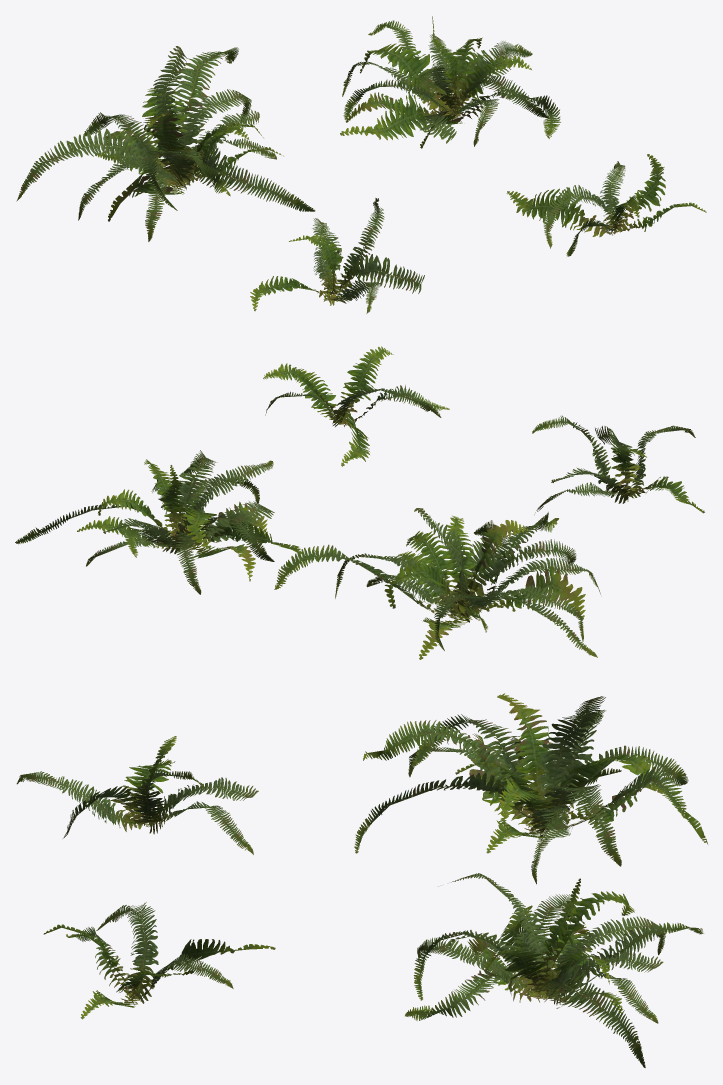
File: fern.glb
3 renders of one model, top to bottom at view 1: azimuth 30°, elevation 25°; view 2: azimuth 150°, elevation 25°; view 3: azimuth 270°, elevation 25°, orthographic. The views are drawn at different scales.
Parts seen in each view (by area): view 1: fern_02_b, fern_02_c, fern_02_a, fern_02_d; view 2: fern_02_b, fern_02_c, fern_02_d, fern_02_a; view 3: fern_02_b, fern_02_c, fern_02_a, fern_02_d.
Boxes of the visible parts, bbox=[...] form: fern_02_b: bbox=[16, 46, 315, 241]; fern_02_c: bbox=[340, 16, 560, 148]; fern_02_a: bbox=[250, 198, 424, 313]; fern_02_d: bbox=[506, 154, 706, 256]; fern_02_b: bbox=[274, 508, 600, 659]; fern_02_c: bbox=[15, 450, 301, 594]; fern_02_d: bbox=[263, 346, 449, 466]; fern_02_a: bbox=[532, 415, 704, 514]; fern_02_b: bbox=[354, 693, 707, 884]; fern_02_c: bbox=[405, 873, 703, 1067]; fern_02_a: bbox=[16, 736, 258, 854]; fern_02_d: bbox=[43, 902, 275, 1019].
Size of the model in its own units: 1.97 by 0.4277 by 1.72.
Materials: 1 (1 with a texture image).
